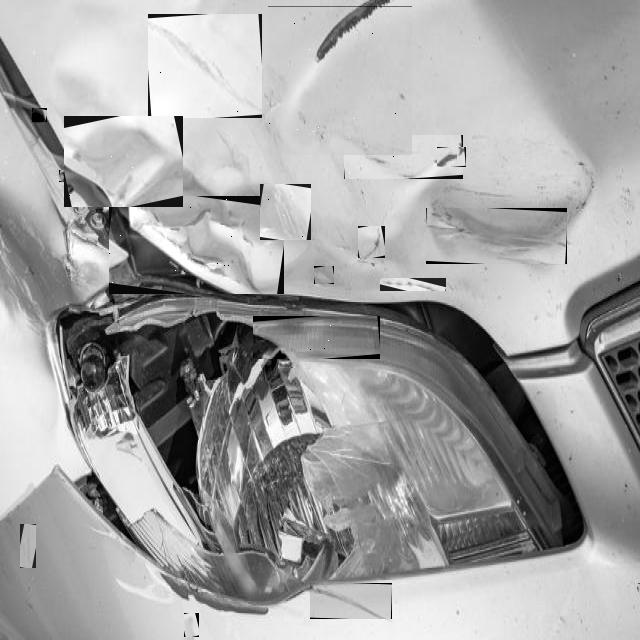Dent: (268, 6, 412, 155), (109, 196, 284, 294), (148, 14, 262, 118), (64, 116, 183, 207), (426, 208, 567, 264), (253, 316, 380, 359), (344, 135, 463, 179), (310, 583, 392, 619), (260, 184, 311, 240), (358, 226, 385, 258), (380, 278, 446, 291), (20, 524, 36, 568), (437, 147, 466, 167), (314, 266, 334, 284), (184, 613, 199, 637), (32, 108, 47, 122), (59, 170, 71, 182), (618, 274, 622, 280), (638, 583, 640, 590)
